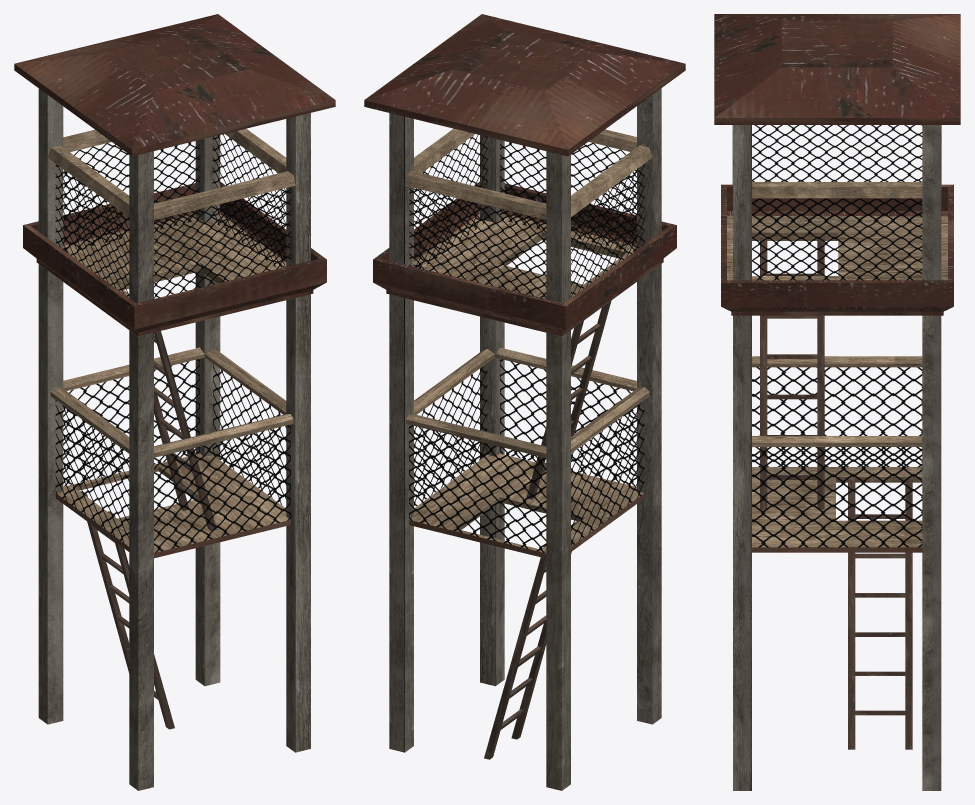
The model's file is torre.glb.
3 renders of one model, left to right at view 1: azimuth 30°, elevation 25°; view 2: azimuth 150°, elevation 25°; view 3: azimuth 270°, elevation 25°, orthographic. The views are drawn at different scales.
Visible parts, largest first — view 1: Object_4, Object_14, Object_6, Object_18, Object_8; view 2: Object_4, Object_14, Object_6, Object_18, Object_8; view 3: Object_14, Object_4, Object_6, Object_18, Object_8.
Part boxes in pixels (x1,y1,x2,y2): Object_4: (38, 88, 310, 790); Object_14: (14, 14, 335, 558); Object_6: (36, 128, 295, 552); Object_18: (55, 134, 290, 552); Object_8: (80, 331, 216, 729); Object_4: (389, 88, 661, 790); Object_14: (364, 14, 685, 558); Object_6: (405, 128, 652, 553); Object_18: (409, 134, 644, 552); Object_8: (484, 300, 611, 759); Object_14: (714, 14, 960, 552); Object_4: (733, 125, 941, 790); Object_6: (727, 125, 947, 547); Object_18: (752, 125, 922, 547); Object_8: (760, 235, 912, 749).
Size of the model in its own units: 2.19 by 6.91 by 2.19.
Materials: 5 (5 with a texture image).
